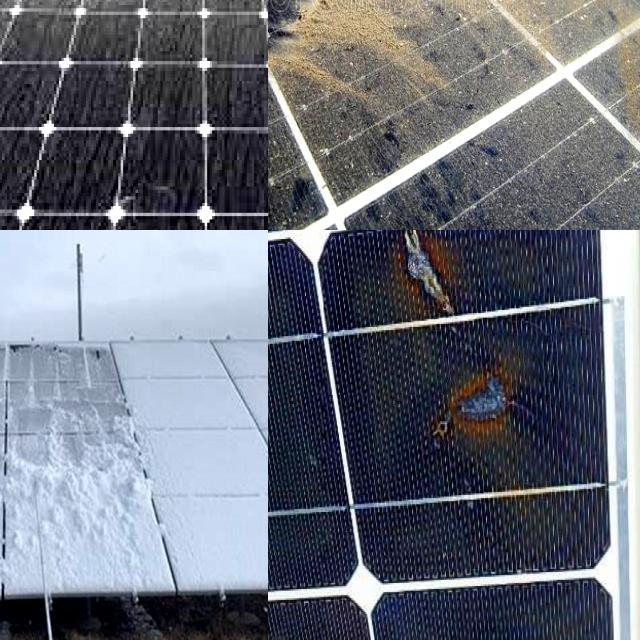dust: (270, 115, 459, 230), (347, 0, 582, 79), (268, 0, 346, 230), (57, 63, 183, 198), (283, 0, 437, 101), (469, 123, 595, 230), (268, 0, 385, 89), (51, 0, 211, 57), (0, 59, 65, 195), (207, 69, 268, 197), (450, 0, 572, 61), (586, 0, 640, 113), (183, 0, 268, 50), (77, 0, 149, 59), (595, 0, 640, 86), (0, 0, 50, 66), (38, 0, 220, 18), (0, 0, 35, 41), (0, 0, 66, 18)
panel: (70, 491, 162, 589), (177, 501, 267, 589), (13, 398, 134, 452), (152, 415, 225, 490), (10, 337, 111, 379), (0, 513, 54, 583), (0, 388, 63, 444), (0, 465, 48, 530), (0, 338, 61, 389), (0, 544, 59, 594), (228, 337, 268, 410), (0, 454, 49, 511), (124, 350, 214, 380), (0, 518, 26, 611), (0, 480, 59, 518), (234, 420, 264, 492), (0, 495, 61, 525), (0, 362, 45, 388), (0, 358, 30, 392), (0, 406, 19, 443), (0, 402, 23, 427)
shadow: (423, 368, 555, 464), (385, 230, 476, 327)
